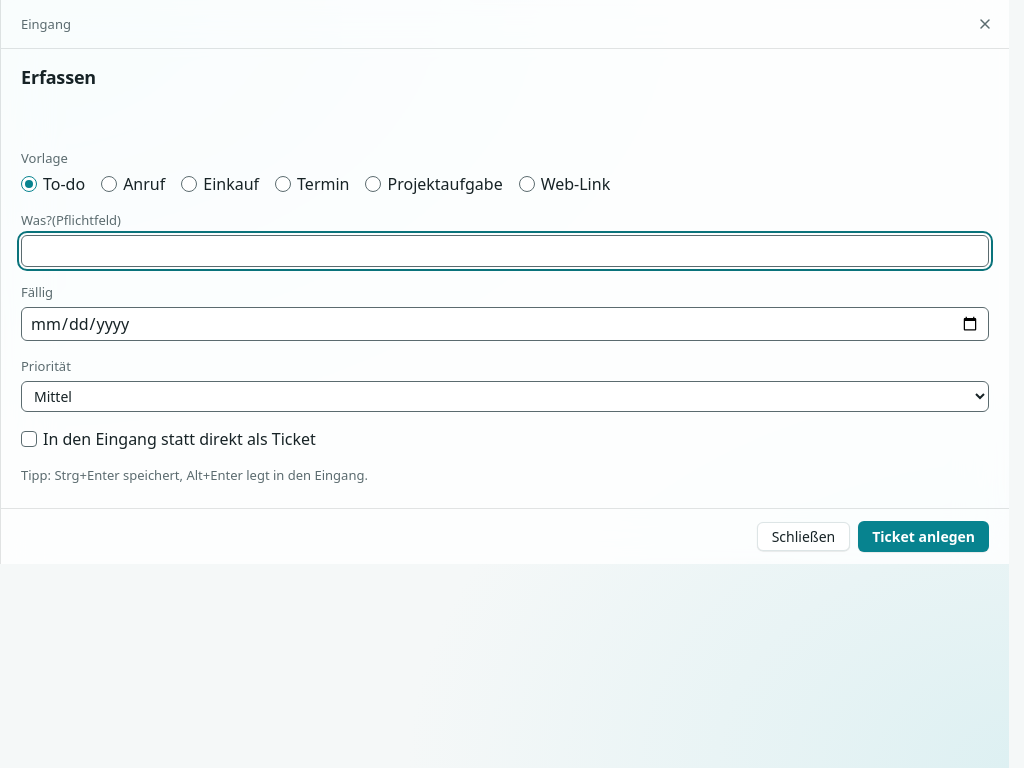
capture form › creates a ticket by default, announces it with a link and empties the form
Type "Milch kaufen" into the field labelled "Was?(Pflichtfeld)".
click(505, 251); type("Milch kaufen")  # box [21,235,989,267]
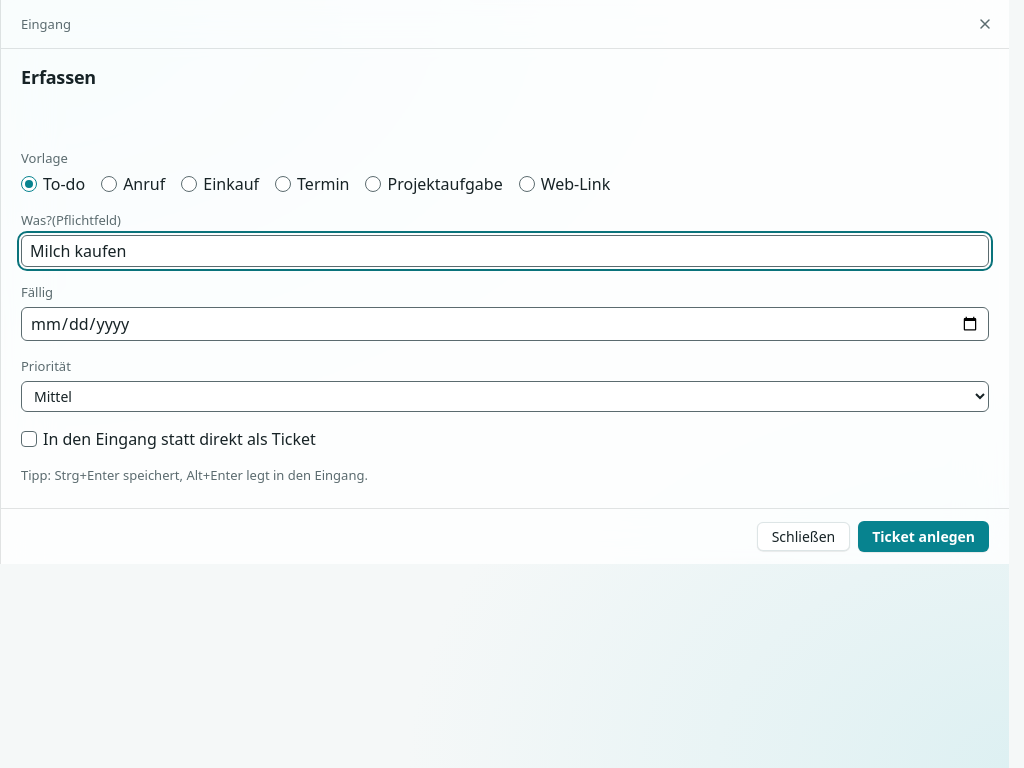
Select "Hoch" in the dropdown labelled "Priorität" at (505, 396), box [21,381,989,412]
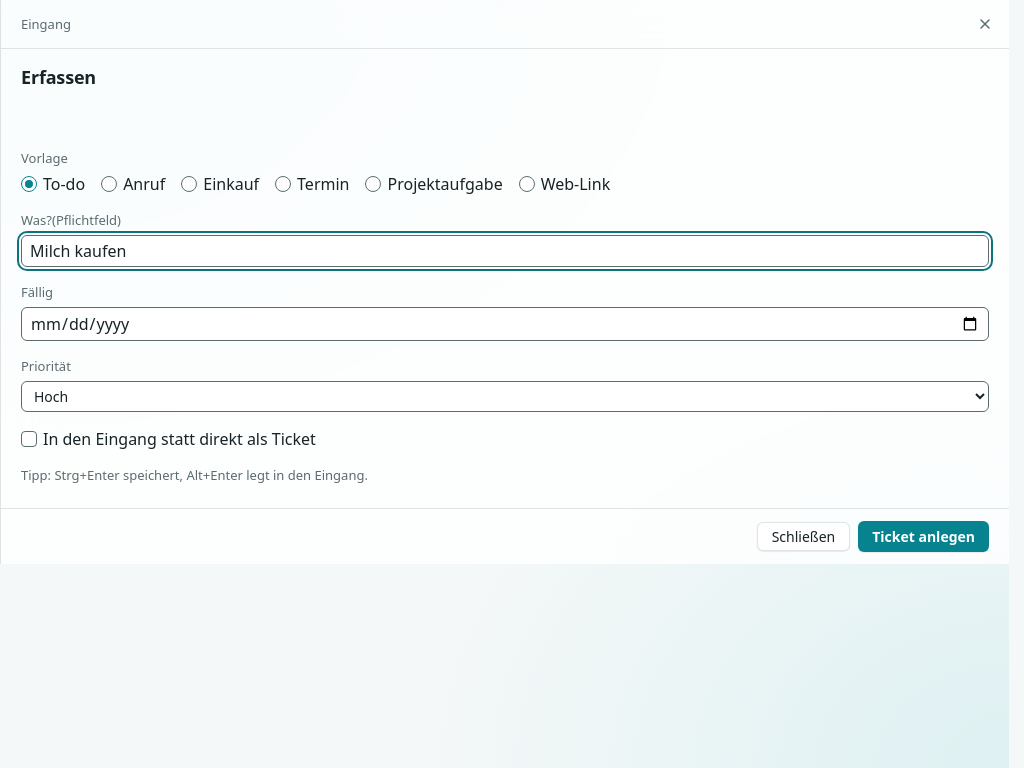
Click the button "Ticket anlegen".
click(924, 536)  # box [858,521,989,552]
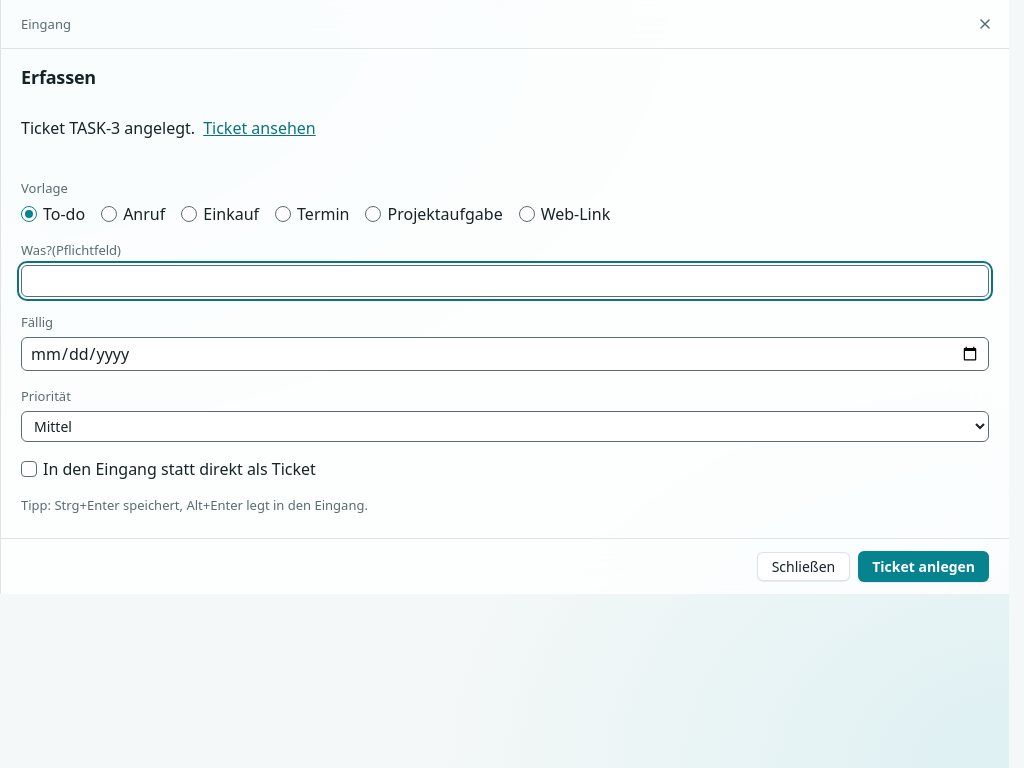
Expected: the element "Ticket ansehen" shows "Ticket TASK-3 angelegt.", [21,117,195,139]
Expected: the field labelled "Was?(Pflichtfeld)" is empty, [21,265,989,297]
